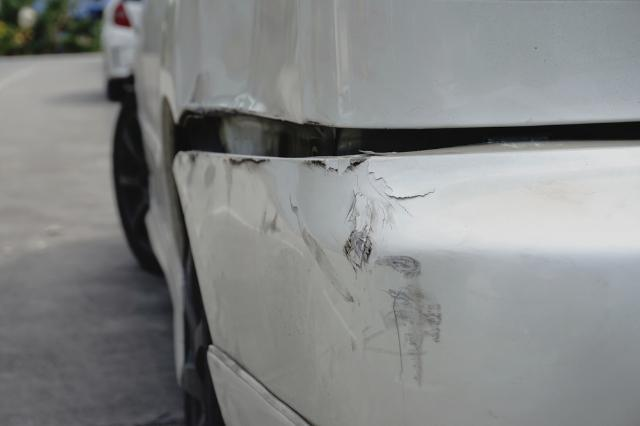Bumper: (150, 126, 528, 426)
